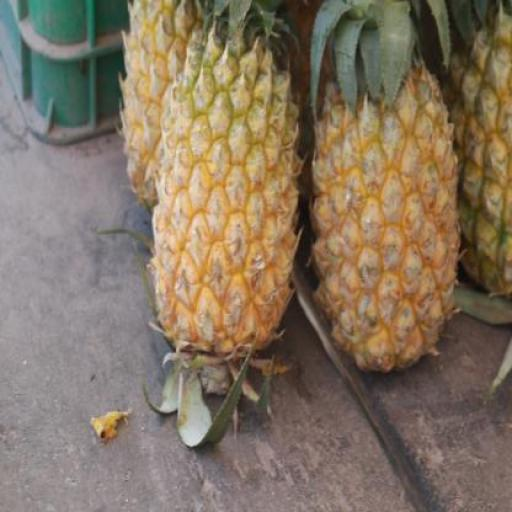Pineapple - v8 v1: (152, 27, 296, 350), (309, 62, 458, 363), (124, 0, 222, 203)
